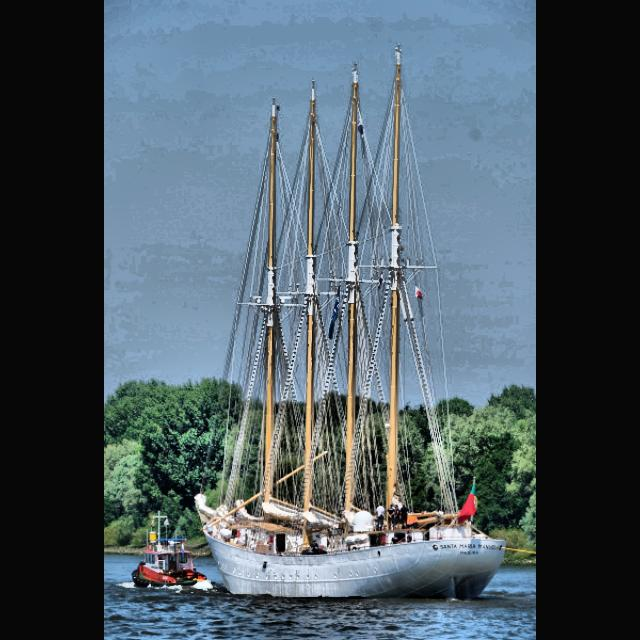sailing_vessel: (194, 41, 510, 602)
tug: (131, 508, 215, 594)
